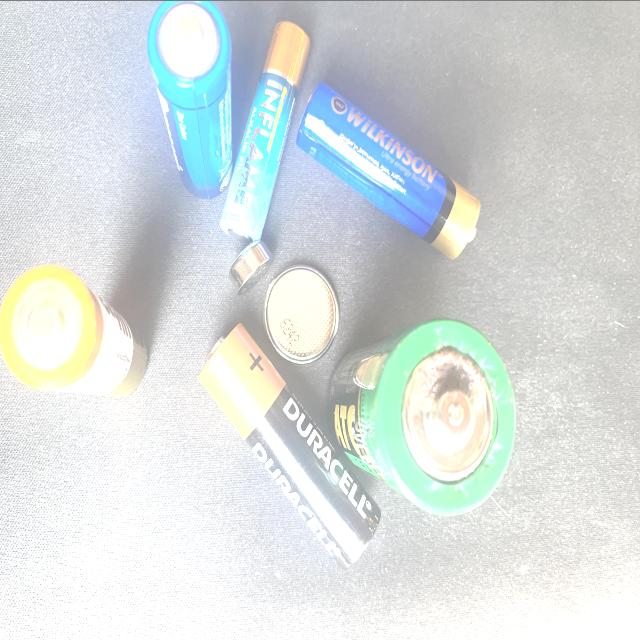AA: (194, 318, 384, 574), (294, 78, 484, 264), (217, 16, 313, 244), (0, 261, 151, 401), (145, 0, 238, 204)
COIN: (262, 261, 341, 367), (226, 238, 277, 295)
